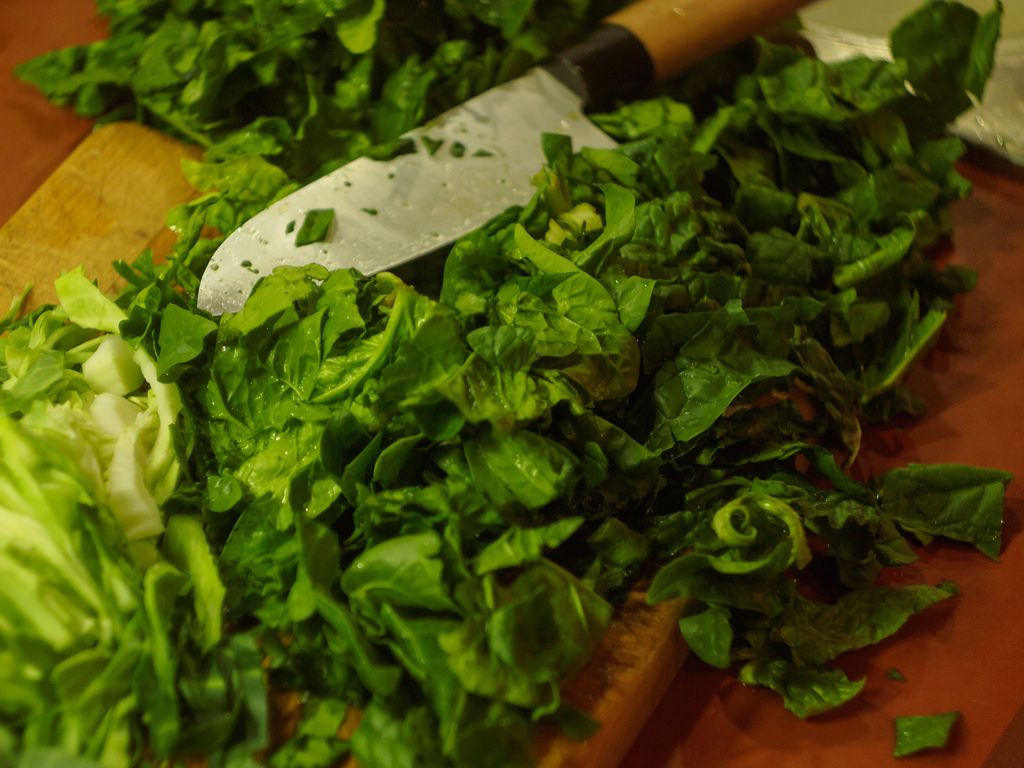chopped lettuce: (55, 327, 906, 661)
